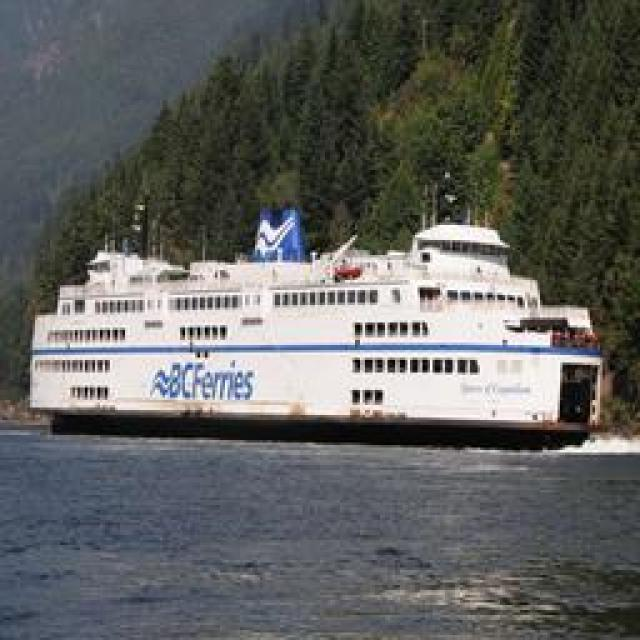CIV_Ship: (22, 216, 606, 439)
